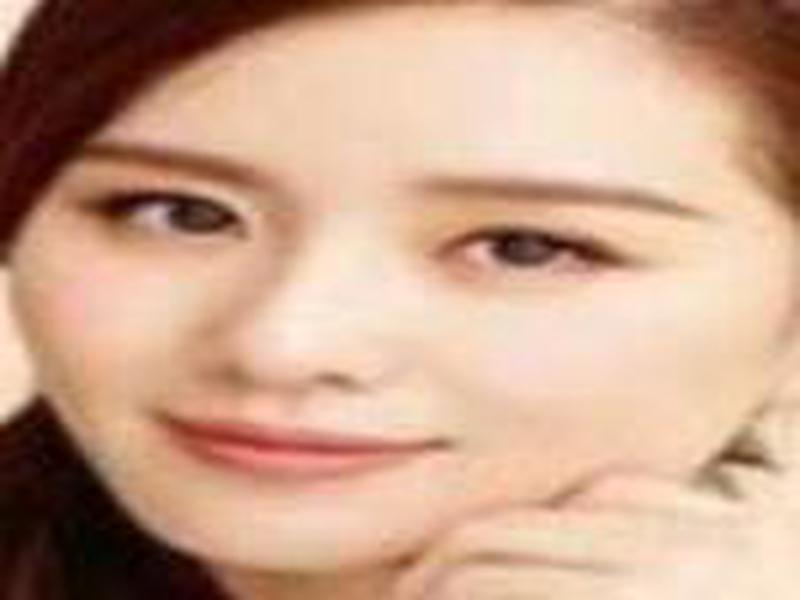without_mask: (10, 65, 778, 582)
